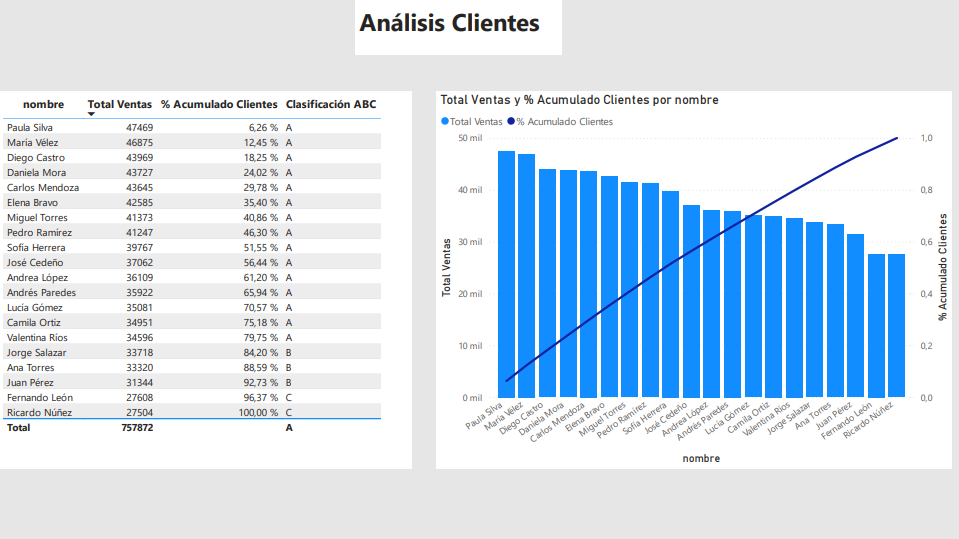

Layout of this report page (visuals, bound fields, positions):
{"tool":"powerbi","page":{"name":"Análisis Clientes","canvas":[1280,720],"ordinal":2},"visuals":[{"type":"tableEx","fields":{"Values":["clientes.nombre","Medidas.Total Ventas","Medidas.% Acumulado Clientes","Medidas.Clasificación ABC"]},"box":[10,122,549,503],"z":0},{"type":"lineStackedColumnComboChart","fields":{"Y":["Medidas.Total Ventas"],"Y2":["Medidas.% Acumulado Clientes"],"Category":["clientes.nombre"]},"box":[583.2,122.4,685.4,502.6],"z":1000},{"type":"textbox","box":[471,13,270,62],"z":1001}]}

Visuals, with their boxes in screenshot pixels (x1, y1, x2, y2), scaled from the page's 1280x720 canvas onto the 959x539 screenshot:
tableEx - clientes.nombre x Medidas.Total Ventas: x1=7 y1=91 x2=419 y2=468
lineStackedColumnComboChart - Medidas.Total Ventas x Medidas.% Acumulado Clientes: x1=437 y1=92 x2=950 y2=468
textbox: x1=353 y1=10 x2=555 y2=56
